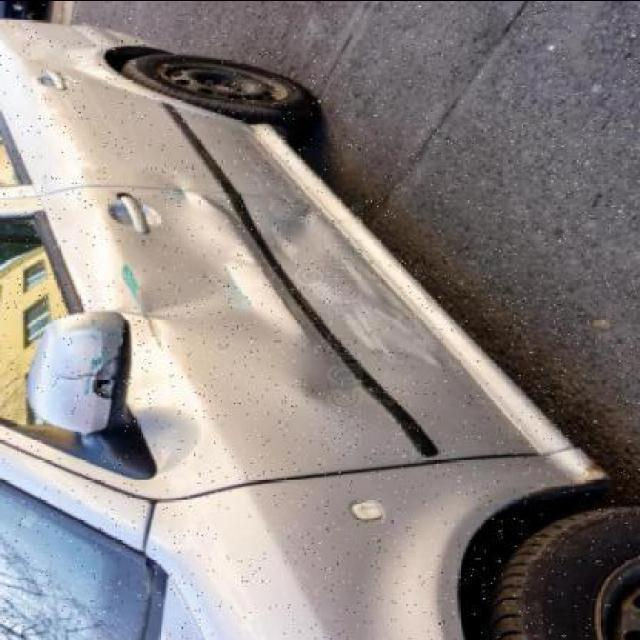Sidemirror-Damage: (19, 292, 143, 450)
doorouter-dent: (146, 197, 442, 469), (37, 103, 289, 194)
